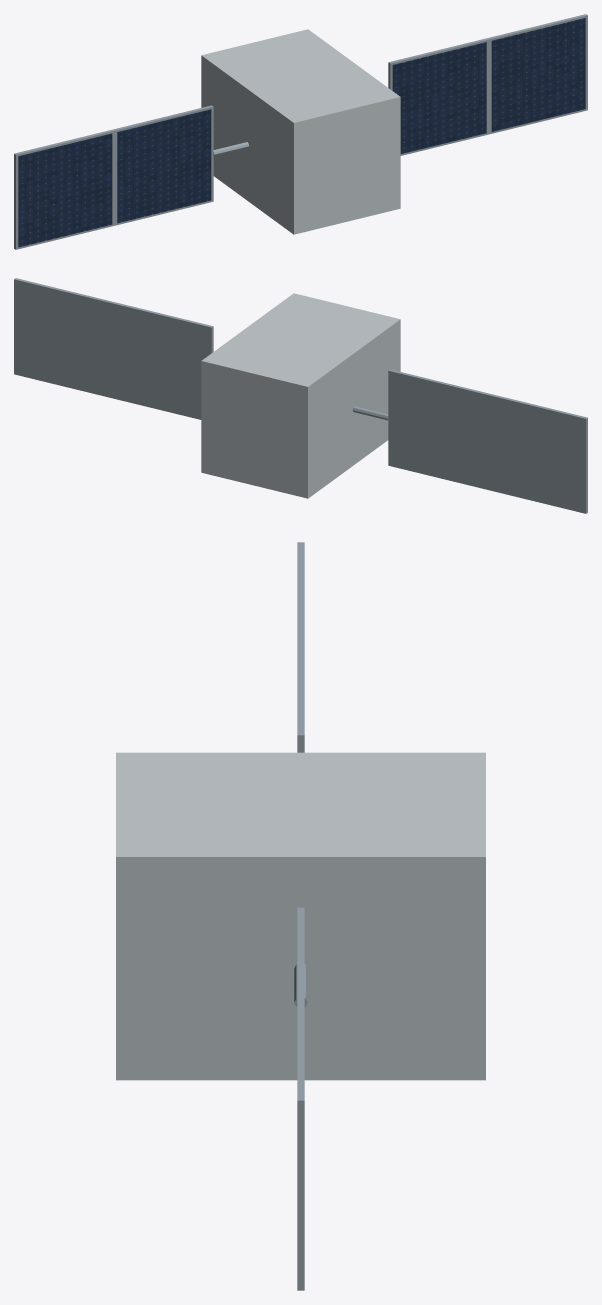
The model's file is ref-rme-bcp-2000-23710.glb.
The picture shows the model from 3 angles, top to bottom: view 1: azimuth 30°, elevation 25°; view 2: azimuth 150°, elevation 25°; view 3: azimuth 270°, elevation 25°; orthographic projection. The views are drawn at different scales.
Visible parts, largest first — view 1: Photovoltaic laminates (×4), Spacecraft body, Array frame (×4); view 2: Array frame (×4), Spacecraft body; view 3: Spacecraft body, Array frame.
Boxes of the visible parts, left/top/right/bottom form: Photovoltaic laminates (×4): left=18, top=18, right=585, bottom=247; Spacecraft body: left=201, top=29, right=400, bottom=234; Array frame (×4): left=14, top=14, right=587, bottom=249; Array frame (×4): left=14, top=278, right=587, bottom=513; Spacecraft body: left=201, top=293, right=400, bottom=498; Spacecraft body: left=116, top=752, right=485, bottom=1080; Array frame: left=297, top=1004, right=304, bottom=1290.
Size of the model in its own units: 15 by 2.8 by 4.2.
3 materials, 1 textured.
